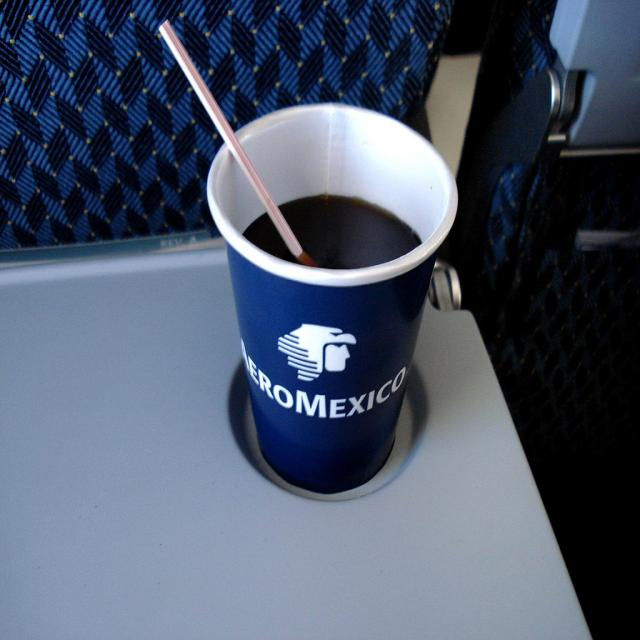Coffee: (241, 186, 424, 272)
